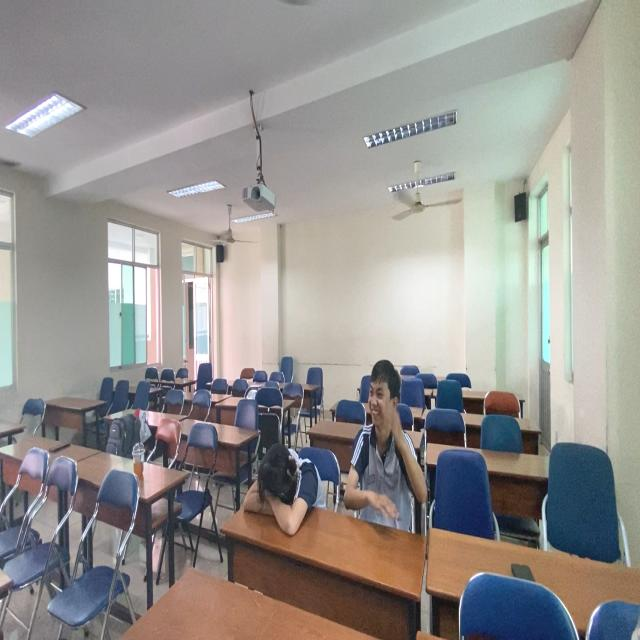sleep: (239, 441, 326, 543)
